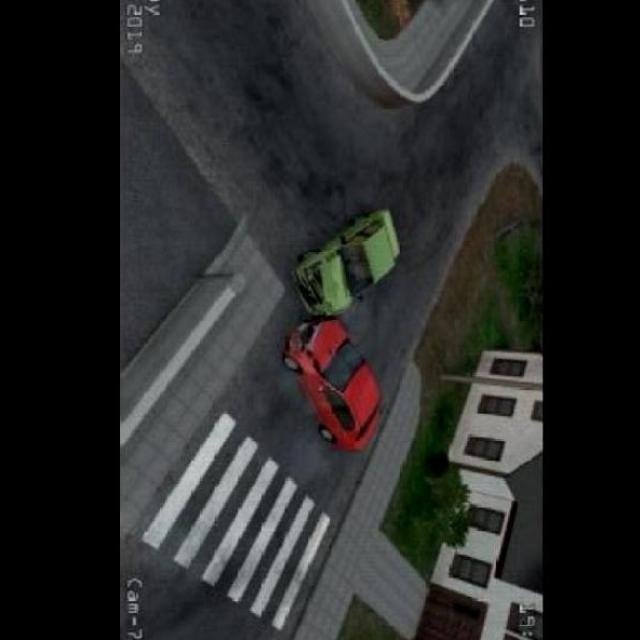accident: (279, 208, 398, 440)
